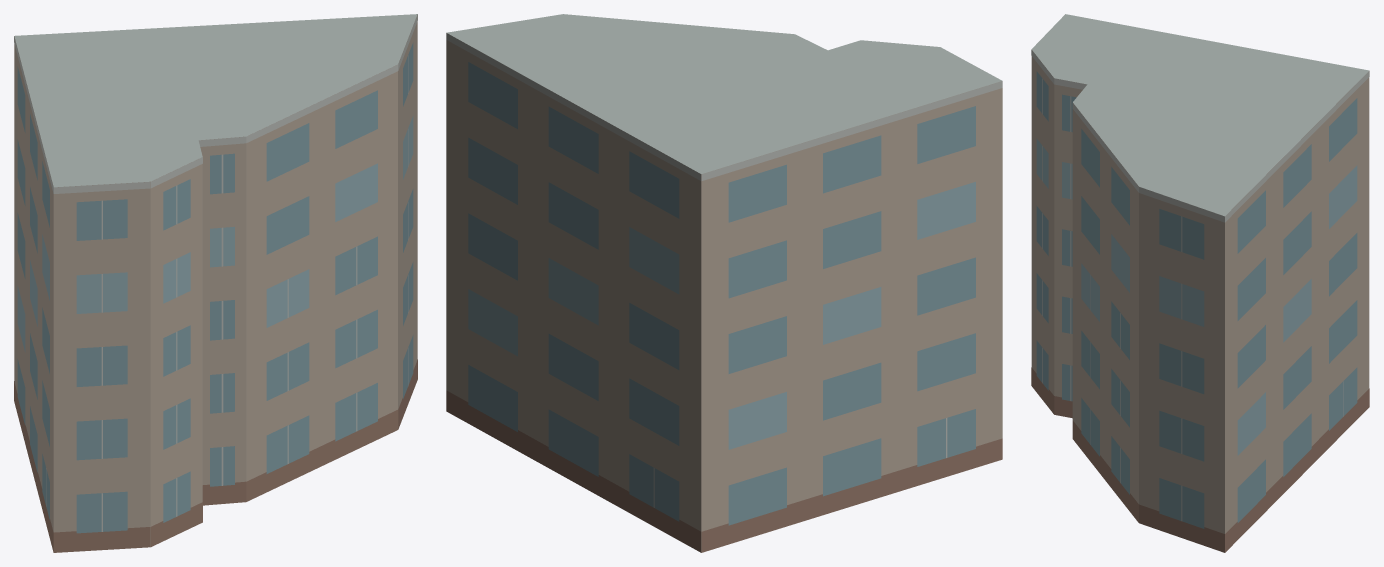
The model's file is survey-upis-32526104.glb.
3 renders of one model, left to right at view 1: azimuth 30°, elevation 25°; view 2: azimuth 150°, elevation 25°; view 3: azimuth 270°, elevation 25°, orthographic. The views are drawn at different scales.
Visible parts, largest first — view 1: survey-upis-32526104.tmp; view 2: survey-upis-32526104.tmp; view 3: survey-upis-32526104.tmp.
Part boxes in pixels (bbox=[...]): survey-upis-32526104.tmp: bbox=[14, 14, 417, 552]; survey-upis-32526104.tmp: bbox=[446, 14, 1002, 552]; survey-upis-32526104.tmp: bbox=[1031, 14, 1369, 552].
Size of the model in its own units: 16.95 by 13.13 by 11.96.
